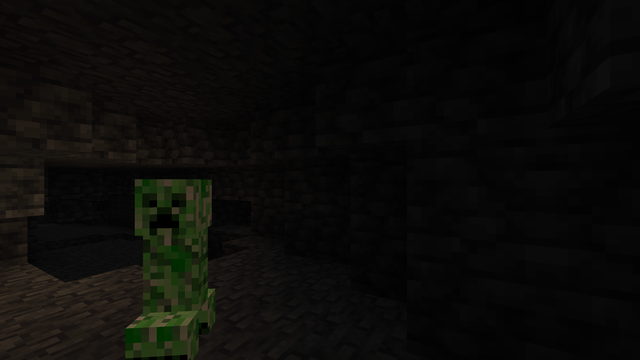creepers: (127, 170, 222, 357)
